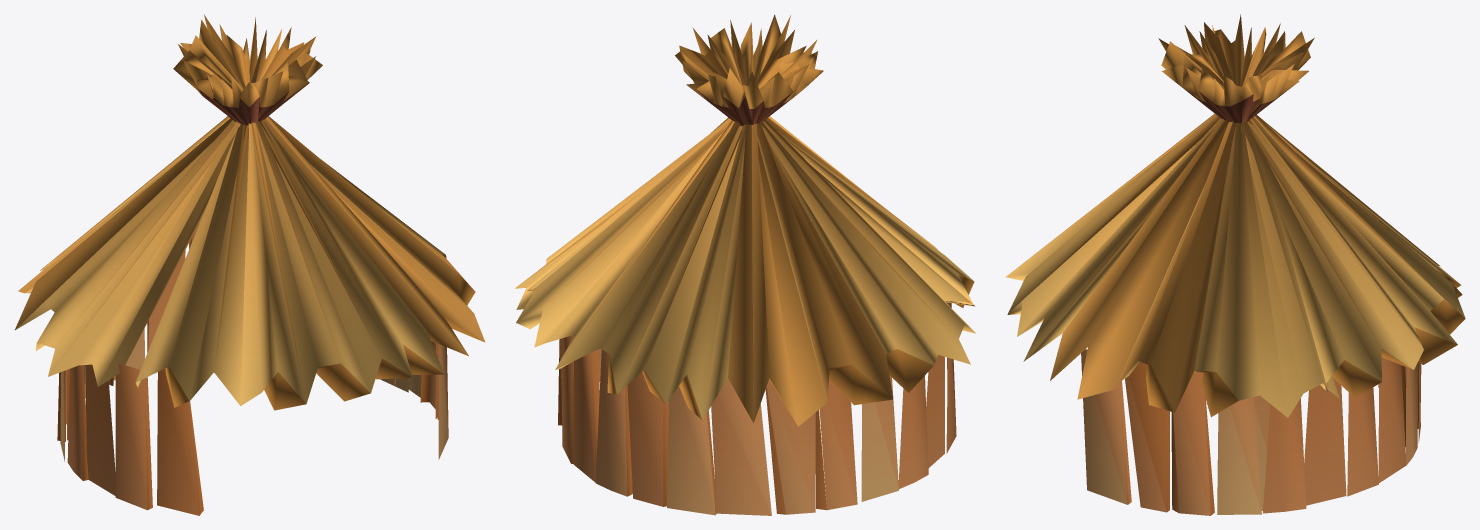
File: GL-Manmade-09.fbx
3 views of the same model, side by side, from view 1: azimuth 30°, elevation 25°; view 2: azimuth 150°, elevation 25°; view 3: azimuth 270°, elevation 25° (orthographic).
Parts seen in each view (by area): view 1: GL-Manmade-09; view 2: GL-Manmade-09; view 3: GL-Manmade-09.
Part boxes in pixels (left/top/right/bottom): GL-Manmade-09: left=15, top=14, right=485, bottom=515; GL-Manmade-09: left=515, top=14, right=975, bottom=515; GL-Manmade-09: left=1005, top=14, right=1465, bottom=515.
Bounding box in the file's own units: 2.24 × 2.03 × 2.14.
